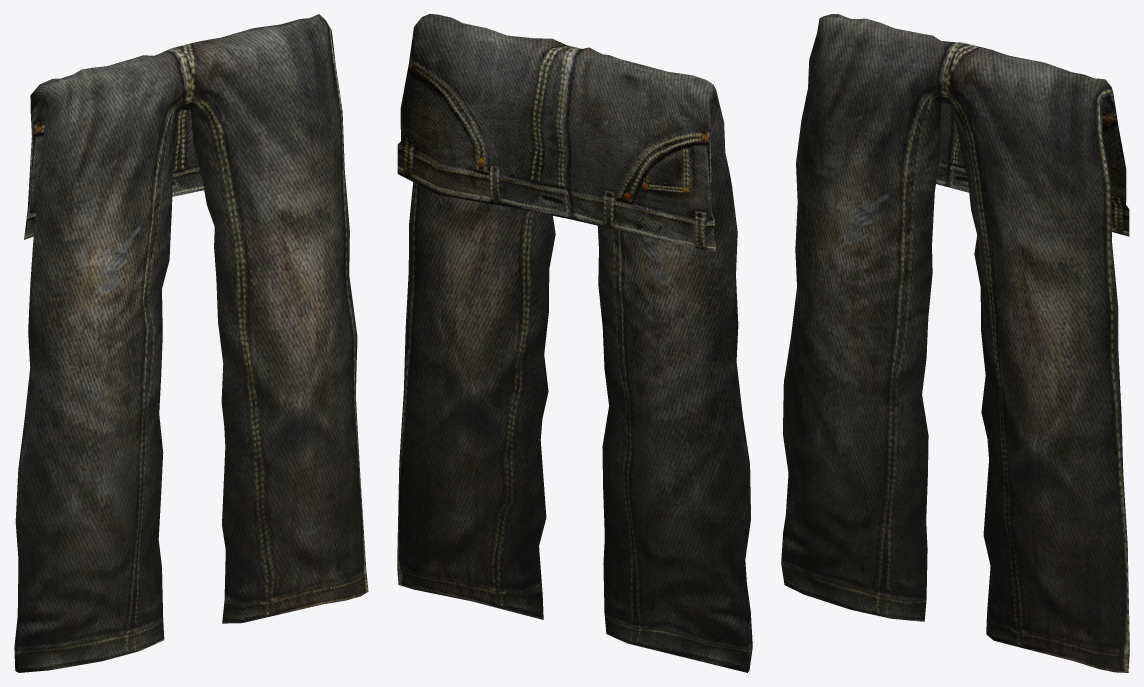
Rendered from jeans_hanging.dae.
3 renders of one model, left to right at view 1: azimuth 30°, elevation 25°; view 2: azimuth 150°, elevation 25°; view 3: azimuth 330°, elevation 25°, orthographic. The views are drawn at different scales.
Parts seen in each view (by area): view 1: jeans_hanging; view 2: jeans_hanging; view 3: jeans_hanging.
Boxes of the visible parts, x1=… form: jeans_hanging: x1=14, y1=14, x2=368, y2=672; jeans_hanging: x1=397, y1=14, x2=752, y2=672; jeans_hanging: x1=781, y1=14, x2=1129, y2=672.
Bounding box in the file's own units: 0.6254 × 0.9924 × 0.1175.
